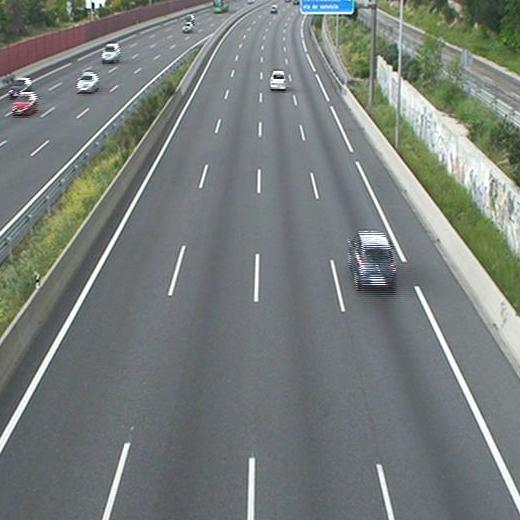cat: (347, 230, 397, 290), (269, 70, 287, 92)
